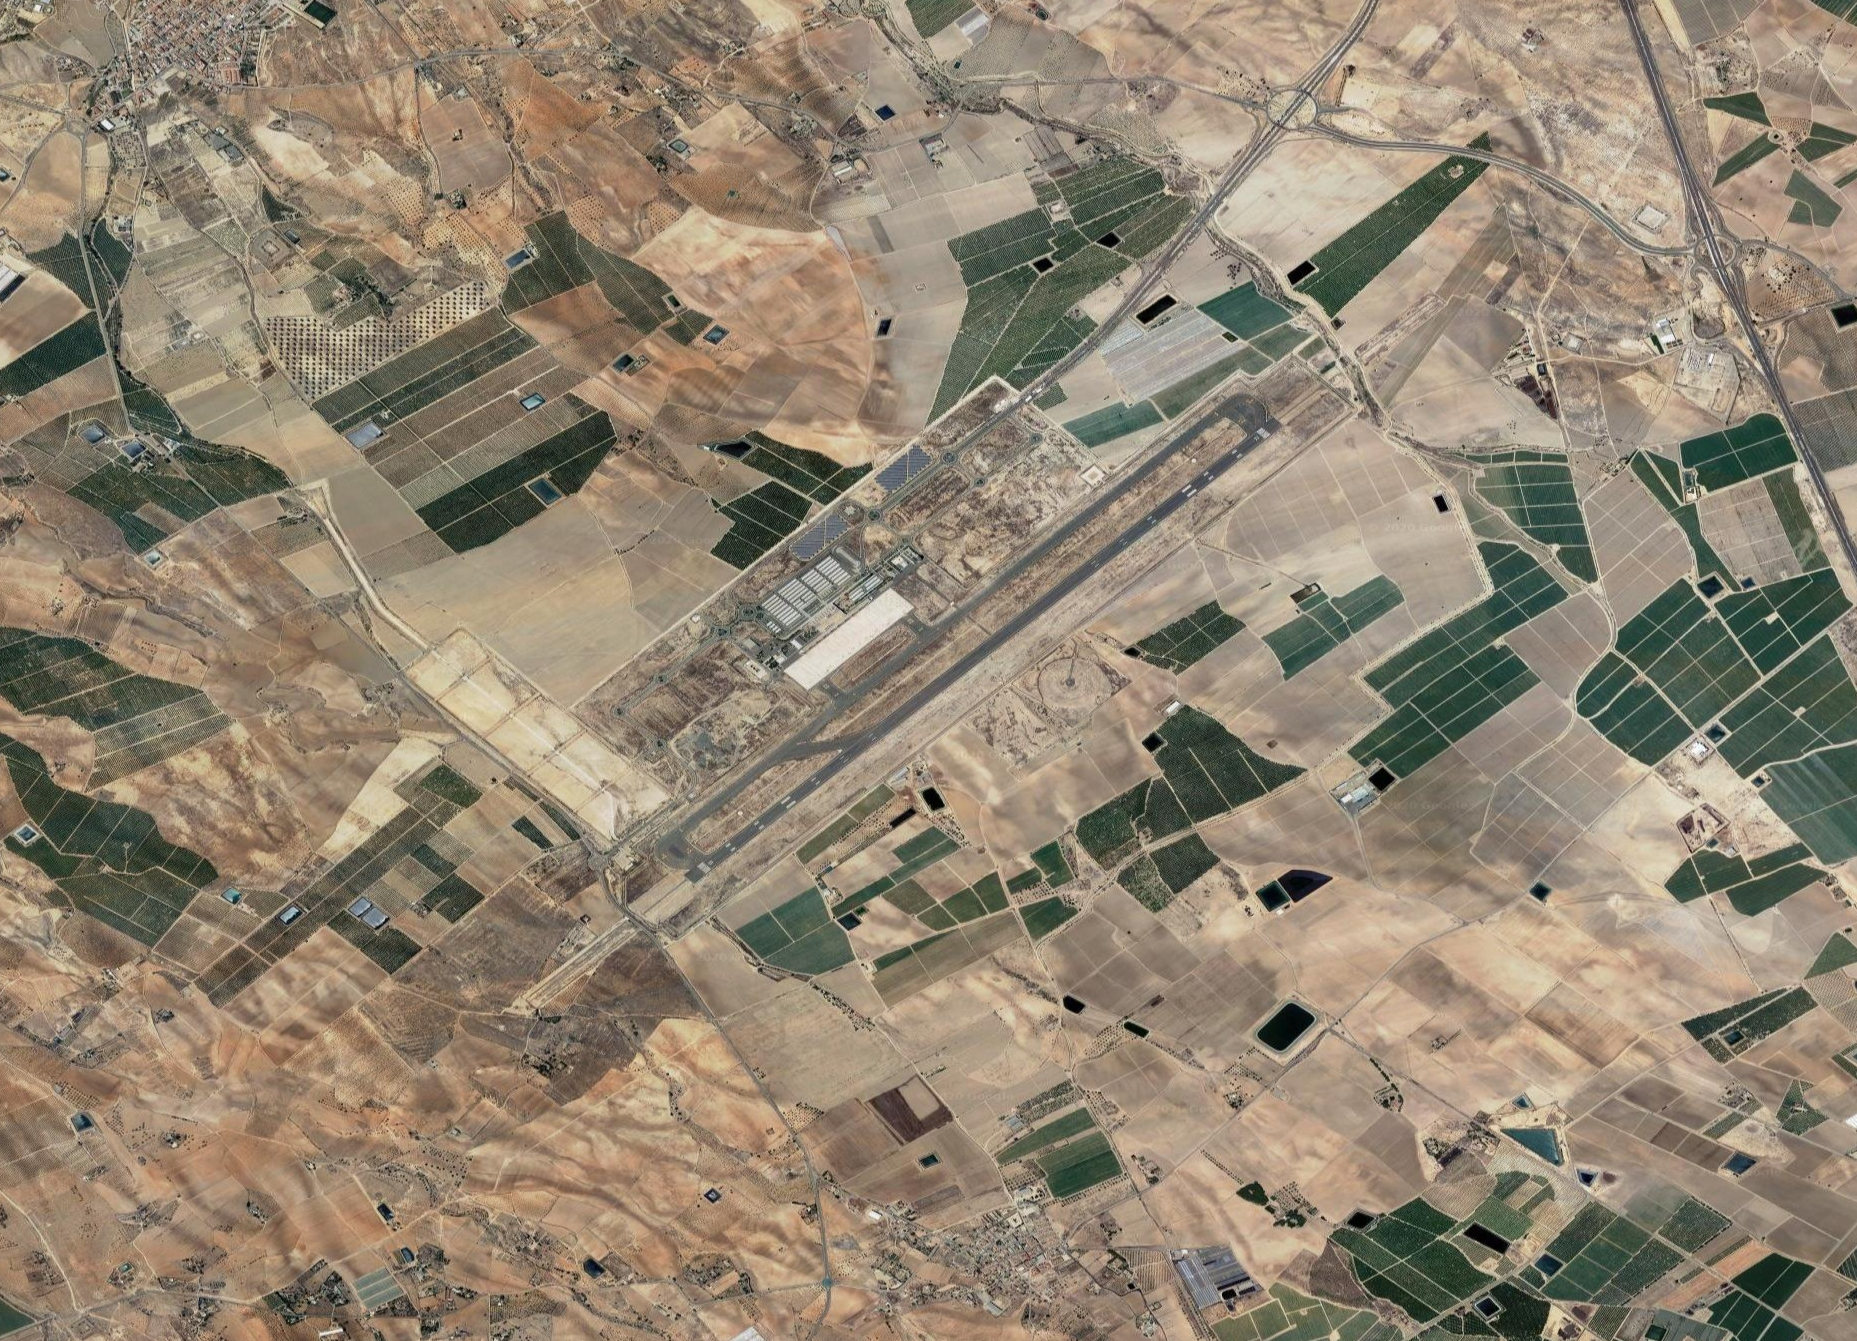airport: (649, 386, 1288, 888)
motorway: (1388, 131, 1563, 200), (1563, 173, 1659, 278), (1114, 211, 1205, 313), (1200, 118, 1282, 212), (1701, 238, 1758, 360), (1759, 358, 1815, 480), (1618, 1, 1674, 123), (1659, 118, 1716, 239), (1306, 1, 1383, 85), (1044, 307, 1114, 376), (1818, 482, 1857, 572)
